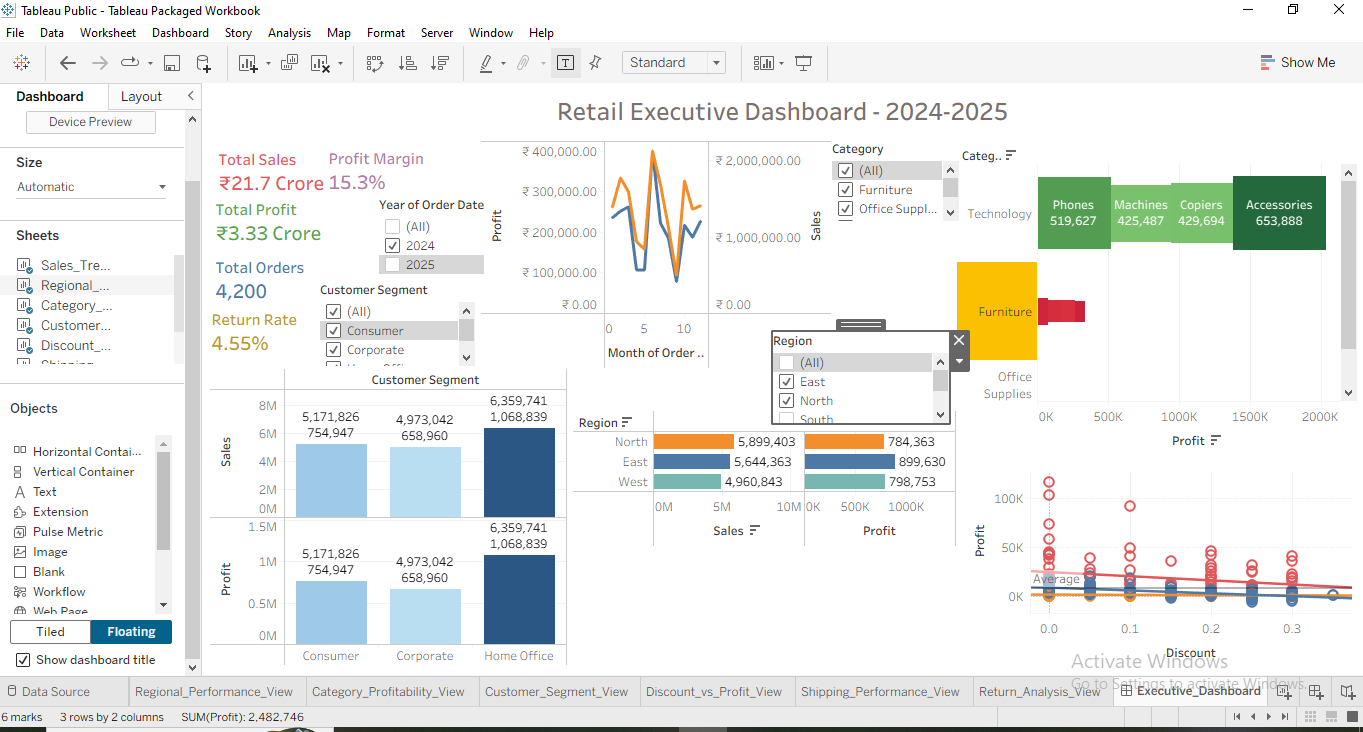

This screenshot's page, from the dashboard's own definition file:
{"tool":"tableau","page":{"name":"Executive_Dashboard","canvas":[1000,1000],"units":"permille","ordinal":0},"visuals":[{"type":"title","box":[6.9,13.5,986.2,65.9]},{"type":"text","box":[106.8,71,117.1,157.1]},{"type":"filter","title":"Category_Profitability_View","param":"[federated.0hghpv81nnwc3n14sd8d20xajxht].[none:category:nk]","box":[542.6,96.3,109.4,136.8]},{"type":"worksheet","title":"Sales_Trend_View","mark":"Automatic","rows":["profit","sales"],"cols":["order_date"],"box":[240.3,98,302.3,385.1]},{"type":"text","box":[12.1,101.4,110.2,99.7]},{"type":"worksheet","title":"Category_Profitability_View","mark":"Automatic","rows":["category"],"cols":["profit"],"box":[650.3,103,344.5,527]},{"type":"filter","title":"Sales_Trend_View","param":"[federated.0hghpv81nnwc3n14sd8d20xajxht].[yr:order_date:ok]","box":[152.5,190.9,90.4,136.8]},{"type":"text","box":[9.5,196,95.6,79.4]},{"type":"text","box":[9.5,268.6,97.3,128.4]},{"type":"filter","title":"Customer_Segment_View","param":"[federated.0hghpv81nnwc3n14sd8d20xajxht].[none:customer_segment:nk]","box":[101.6,334.5,133.5,143.6]},{"type":"text","box":[6,369.9,104.2,103]},{"type":"filter","title":"Regional_Performance_View","param":"[federated.0hghpv81nnwc3n14sd8d20xajxht].[none:region:nk]","box":[491.8,420.6,151.6,153.7]},{"type":"worksheet","title":"Customer_Segment_View","mark":"Automatic","rows":["sales","profit"],"cols":["customer_segment"],"box":[6.9,483.1,307.5,501.7]},{"type":"worksheet","title":"Regional_Performance_View","mark":"Automatic","rows":["region"],"cols":["sales","profit"],"box":[319.6,554.1,329.9,425.7]},{"type":"worksheet","title":"Discount_vs_Profit_View","mark":"Automatic","rows":["profit"],"cols":["discount"],"box":[656.3,655.4,334.2,332.8]}]}

Visuals, with their boxes on the dashboard's canvas, which has no fixed pixel size, in thousandths of its width and height (x1, y1, x2, y2). These are canvas units, not pixel positions in the 1363x732 screenshot, which may show the page scaled, cropped or inside an application window:
title: (7, 14, 993, 79)
text: (107, 71, 224, 228)
"Category_Profitability_View" filter: (543, 96, 652, 233)
"Sales_Trend_View" worksheet: (240, 98, 543, 483)
text: (12, 101, 122, 201)
"Category_Profitability_View" worksheet: (650, 103, 995, 630)
"Sales_Trend_View" filter: (152, 191, 243, 328)
text: (10, 196, 105, 275)
text: (10, 269, 107, 397)
"Customer_Segment_View" filter: (102, 334, 235, 478)
text: (6, 370, 110, 473)
"Regional_Performance_View" filter: (492, 421, 643, 574)
"Customer_Segment_View" worksheet: (7, 483, 314, 985)
"Regional_Performance_View" worksheet: (320, 554, 650, 980)
"Discount_vs_Profit_View" worksheet: (656, 655, 990, 988)
